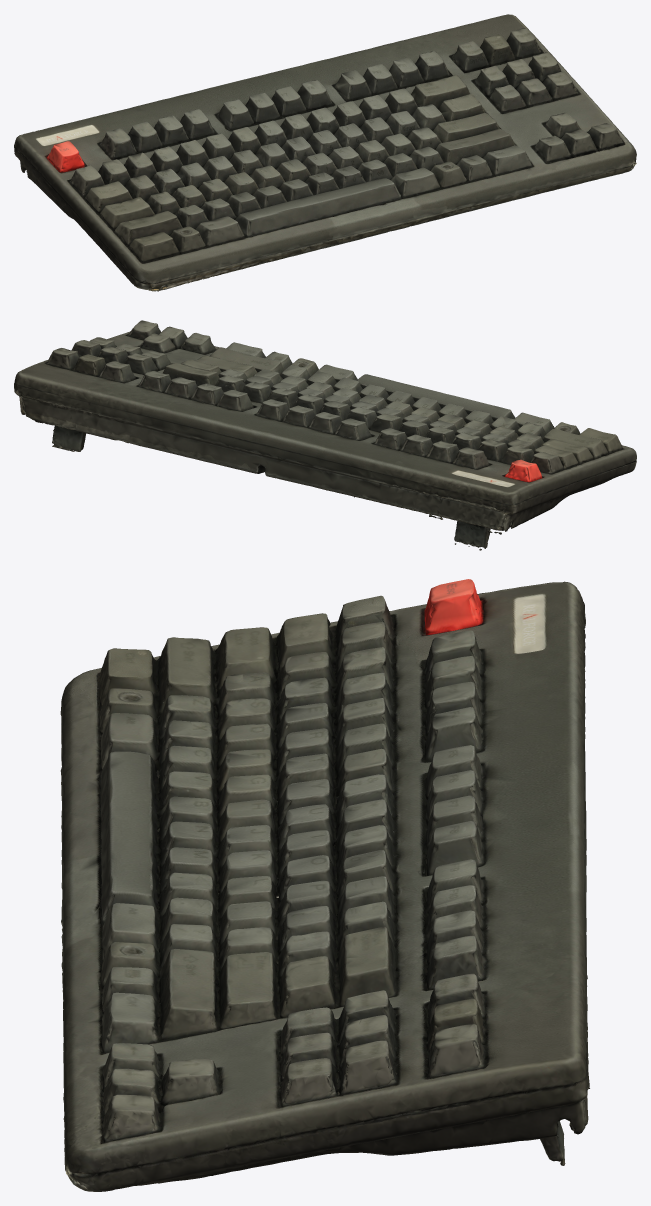
File: realforce-87u.glb
3 views of the same model, one above another, from view 1: azimuth 30°, elevation 25°; view 2: azimuth 150°, elevation 25°; view 3: azimuth 270°, elevation 25° (orthographic). The views are drawn at different scales.
Visible parts, largest first — view 1: Object_2; view 2: Object_2; view 3: Object_2.
Part boxes in pixels (x1,y1,x2,y2): Object_2: (14, 14, 636, 291); Object_2: (14, 320, 636, 550); Object_2: (60, 579, 589, 1191).
Bounding box in the file's own units: 12.2 × 1.79 × 5.57.
Materials: 1 (1 with a texture image).
